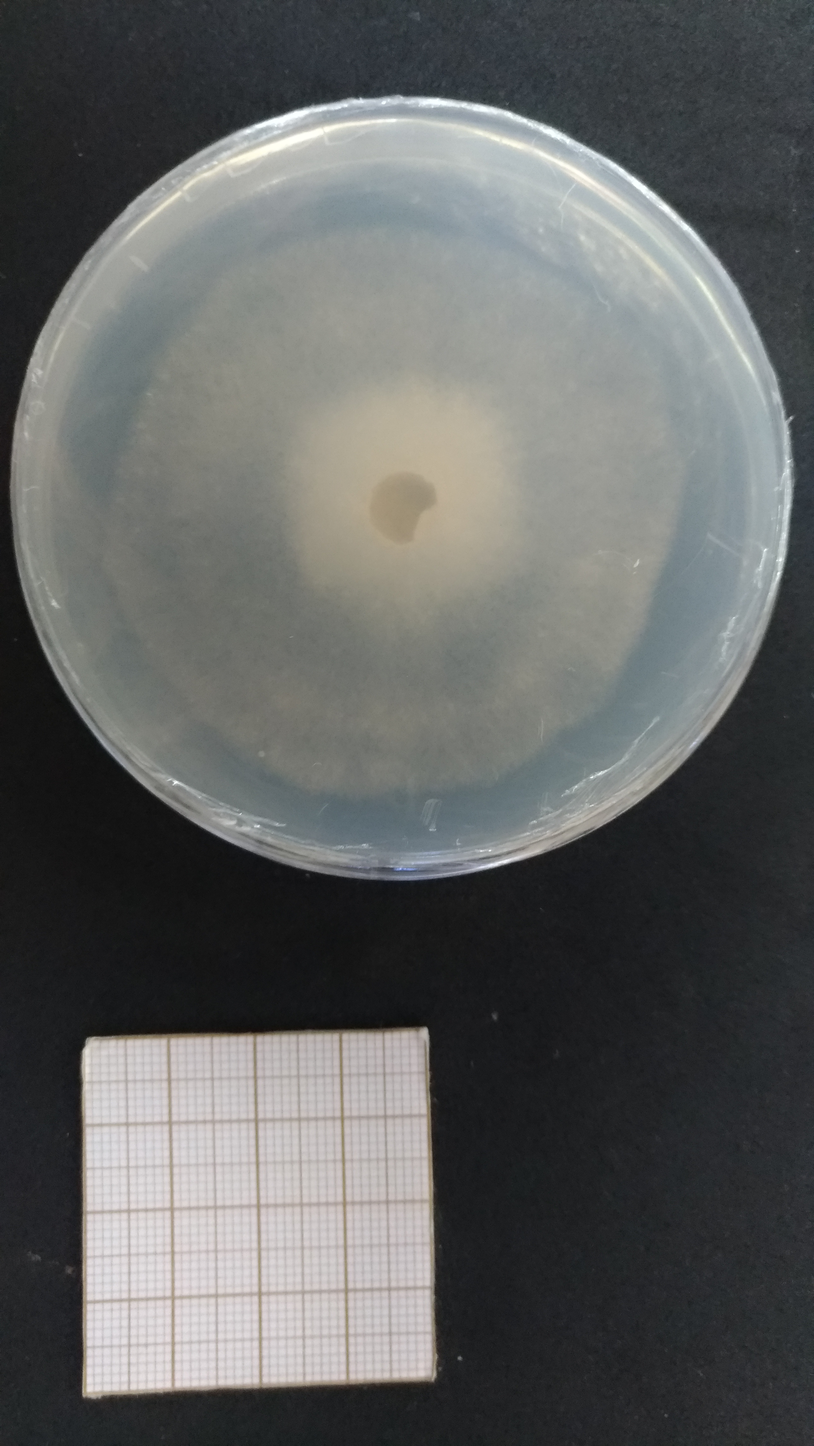escala: (83, 1033, 436, 1394)
fungo: (98, 227, 686, 794)
